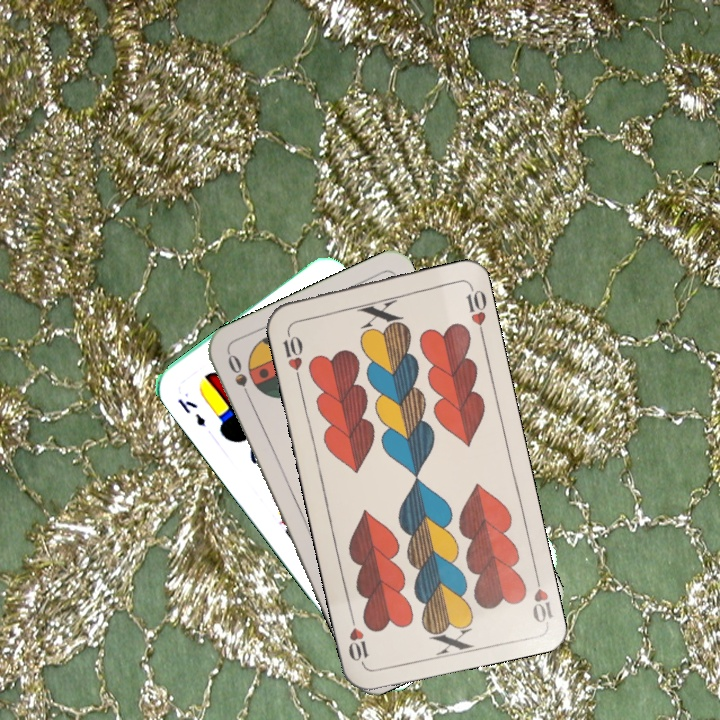EK: (173, 394, 208, 429)
H10: (528, 567, 556, 626), (279, 324, 306, 383)
SO: (223, 350, 255, 406)
